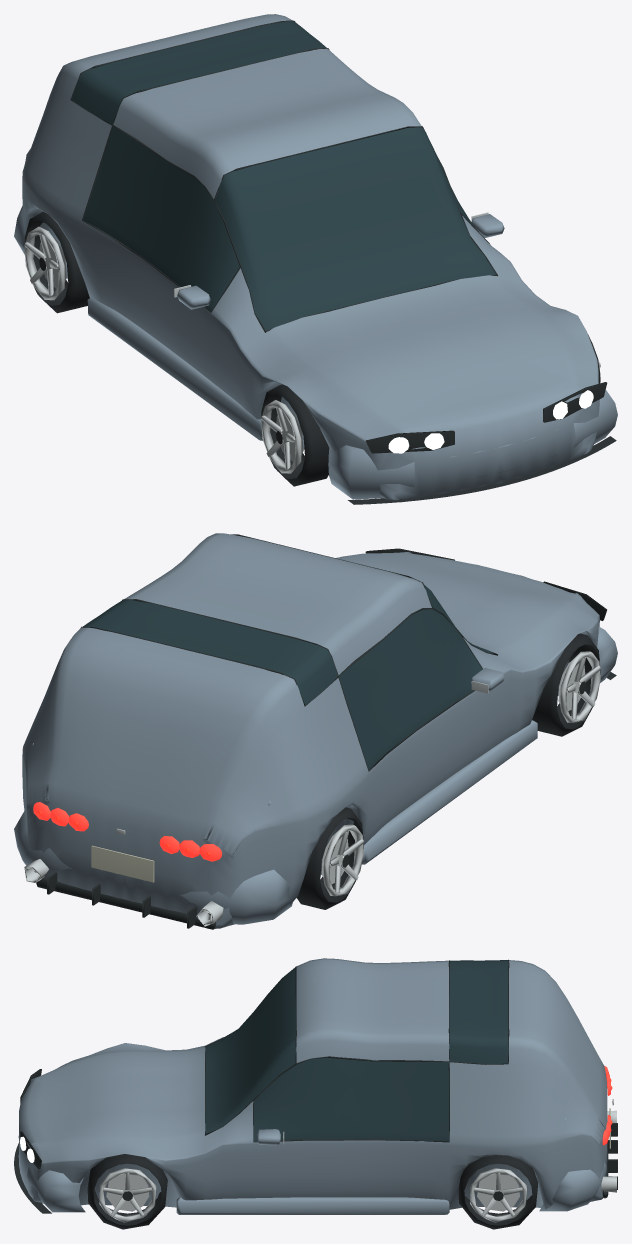
File: uldessa-pryssa.glb
3 views of the same model, one above another, from view 1: azimuth 30°, elevation 25°; view 2: azimuth 150°, elevation 25°; view 3: azimuth 270°, elevation 25° (orthographic). The views are drawn at different scales.
Visible parts, largest first — view 1: scocca, cristallo_ant, cofano, tetto, cristallo_sx, porta_sx, cristallo_post, minigonna_sx, paraurti_ant, portellone, ruota_ant_sx_gomma, ruota_post_sx_gomma (+10 smaller); view 2: portellone, scocca, tetto, cristallo_sx, cofano, cristallo_post, porta_sx, minigonna_sx, paraurti_post, ruota_ant_sx_gomma, ruota_post_sx_gomma, targa (+8 smaller); view 3: scocca, tetto, cristallo_dx, cofano, porta_dx, portellone, cristallo_ant, cristallo_post, minigonna_dx, ruota_ant_dx_gomma, ruota_post_dx_gomma, paraurti_ant (+10 smaller).
Part boxes in pixels (box(x1,y1,x2,y2)): scocca: box(22, 90, 599, 502); cristallo_ant: box(215, 127, 496, 330); cofano: box(265, 275, 579, 425); tetto: box(113, 48, 421, 198); cristallo_sx: box(83, 126, 239, 311); porta_sx: box(82, 221, 225, 392); cristallo_post: box(71, 21, 326, 124); minigonna_sx: box(87, 297, 262, 440); paraurti_ant: box(328, 390, 617, 499); portellone: box(51, 14, 292, 98); ruota_ant_sx_gomma: box(261, 384, 329, 486); ruota_post_sx_gomma: box(24, 211, 89, 313); portellone: box(41, 627, 304, 842); scocca: box(22, 552, 599, 928); tetto: box(124, 533, 431, 675); cristallo_sx: box(339, 609, 482, 769); cofano: box(336, 553, 579, 655); cristallo_post: box(82, 599, 337, 704); porta_sx: box(364, 685, 500, 844); minigonna_sx: box(361, 720, 537, 864); paraurti_post: box(14, 809, 292, 924); ruota_ant_sx_gomma: box(532, 633, 600, 736); ruota_post_sx_gomma: box(297, 807, 363, 909); targa: box(91, 845, 154, 882); scocca: box(19, 1037, 607, 1209); tetto: box(296, 958, 449, 1062); cristallo_dx: box(253, 1057, 449, 1141); cofano: box(40, 1047, 205, 1147); porta_dx: box(238, 1140, 449, 1202); portellone: box(508, 960, 607, 1130); cristallo_ant: box(205, 967, 296, 1133); cristallo_post: box(449, 960, 508, 1063); minigonna_dx: box(176, 1197, 449, 1214); ruota_ant_dx_gomma: box(87, 1154, 167, 1229); ruota_post_dx_gomma: box(458, 1155, 538, 1229); paraurti_ant: box(18, 1136, 85, 1212).
Bounding box in the file's own units: 2.4 × 1.68 × 5.09.
